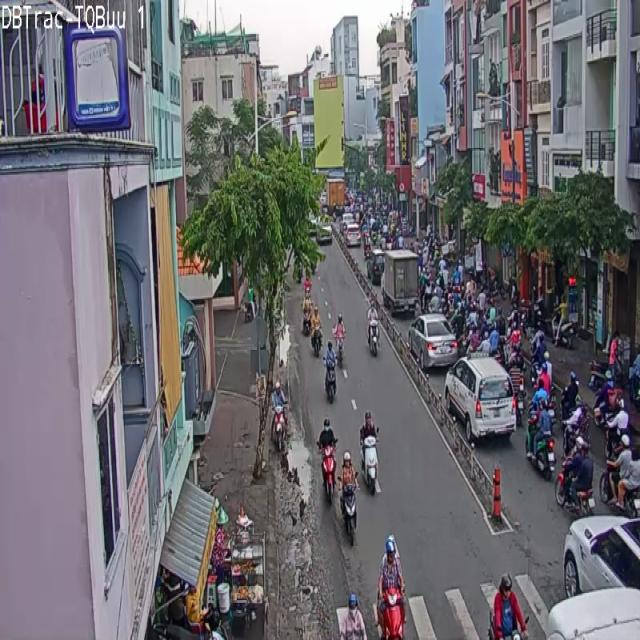car: (375, 536, 404, 639), (362, 435, 378, 492), (322, 442, 336, 502), (342, 485, 356, 543), (325, 340, 336, 401)
traffic-light: (442, 357, 515, 441), (409, 314, 457, 368)
